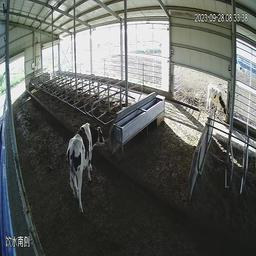cow: (64, 115, 108, 206), (208, 82, 228, 122)
